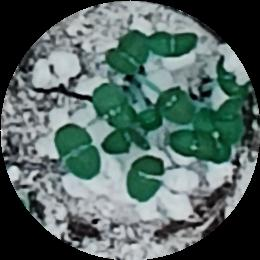Basil: (57, 124, 97, 176), (104, 28, 147, 76), (91, 82, 134, 124), (129, 160, 163, 204), (146, 31, 199, 58), (170, 130, 216, 160), (154, 88, 192, 124), (102, 127, 140, 155), (218, 100, 241, 145)
